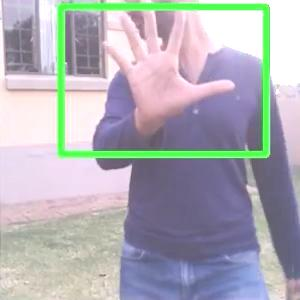follow_hand: (98, 0, 240, 123)
